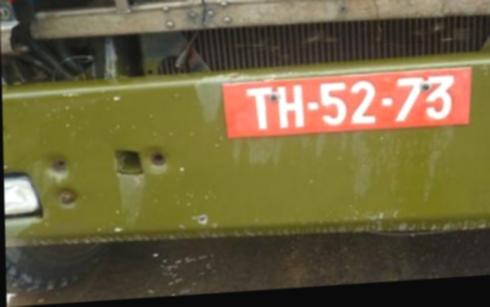License_Plate: (221, 65, 474, 144)
